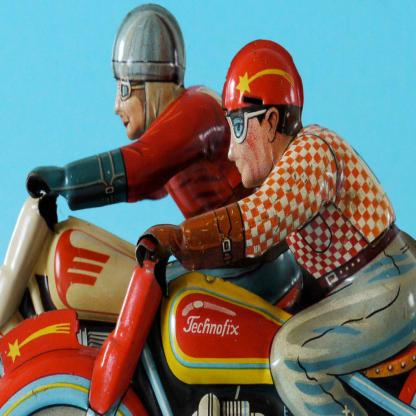Helmet: (111, 3, 186, 136), (221, 38, 306, 138)
